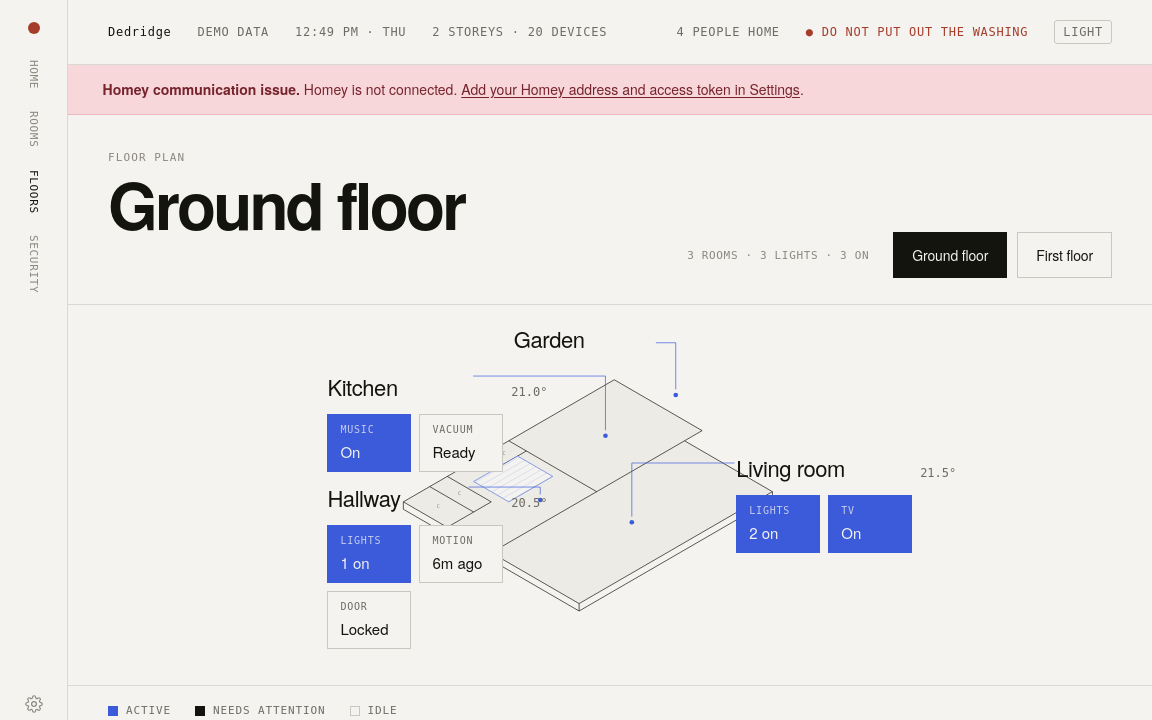
App › switches floors in the god view
The width and height of the screenshot is (1152, 720).
expect the text "Elsies Room" is not shown: met
Step 1. Click the button "First floor" → click(1065, 255), box x1=1017 y1=232 x2=1112 y2=278
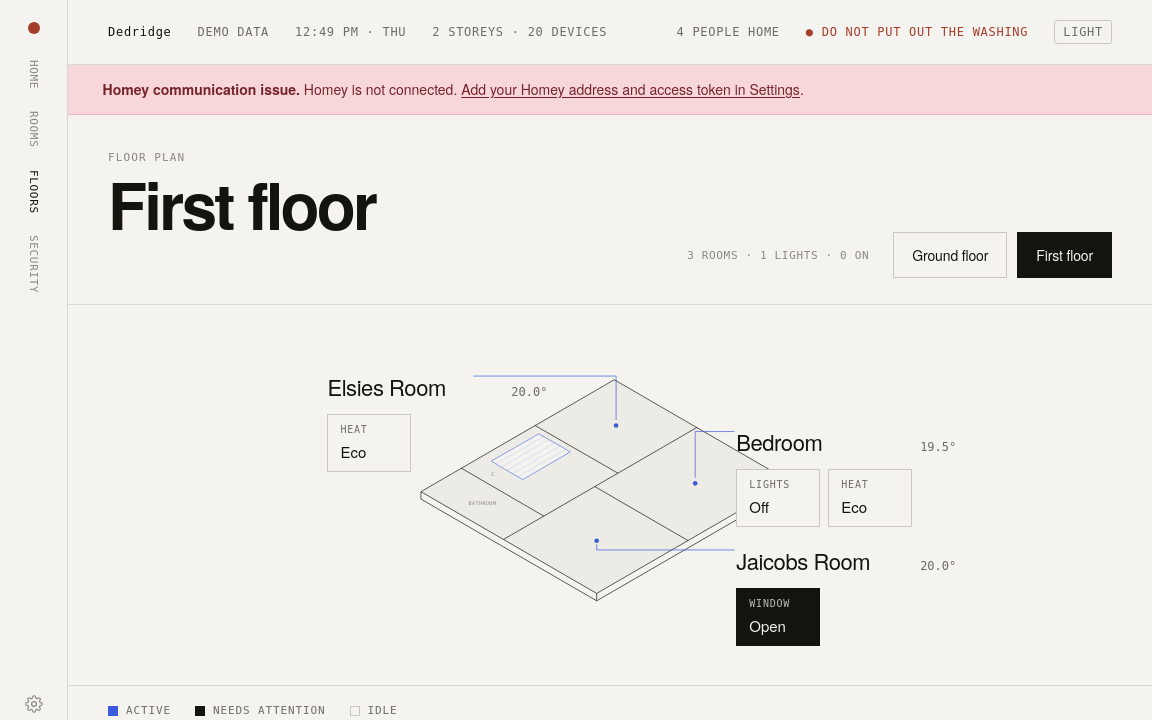
expect the text "Elsies Room" is shown: met, box x1=327 y1=371 x2=446 y2=402
expect the text "Jaicobs Room" is shown: met, box x1=736 y1=545 x2=870 y2=576
expect the text "Kitchen" is gone: met
